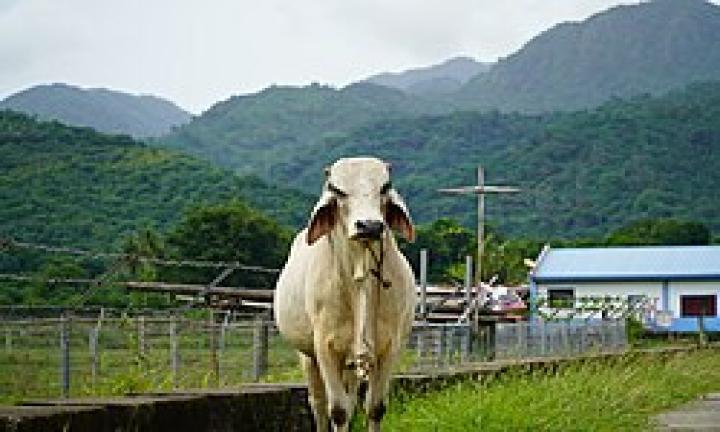Brahman: (274, 158, 412, 429)
